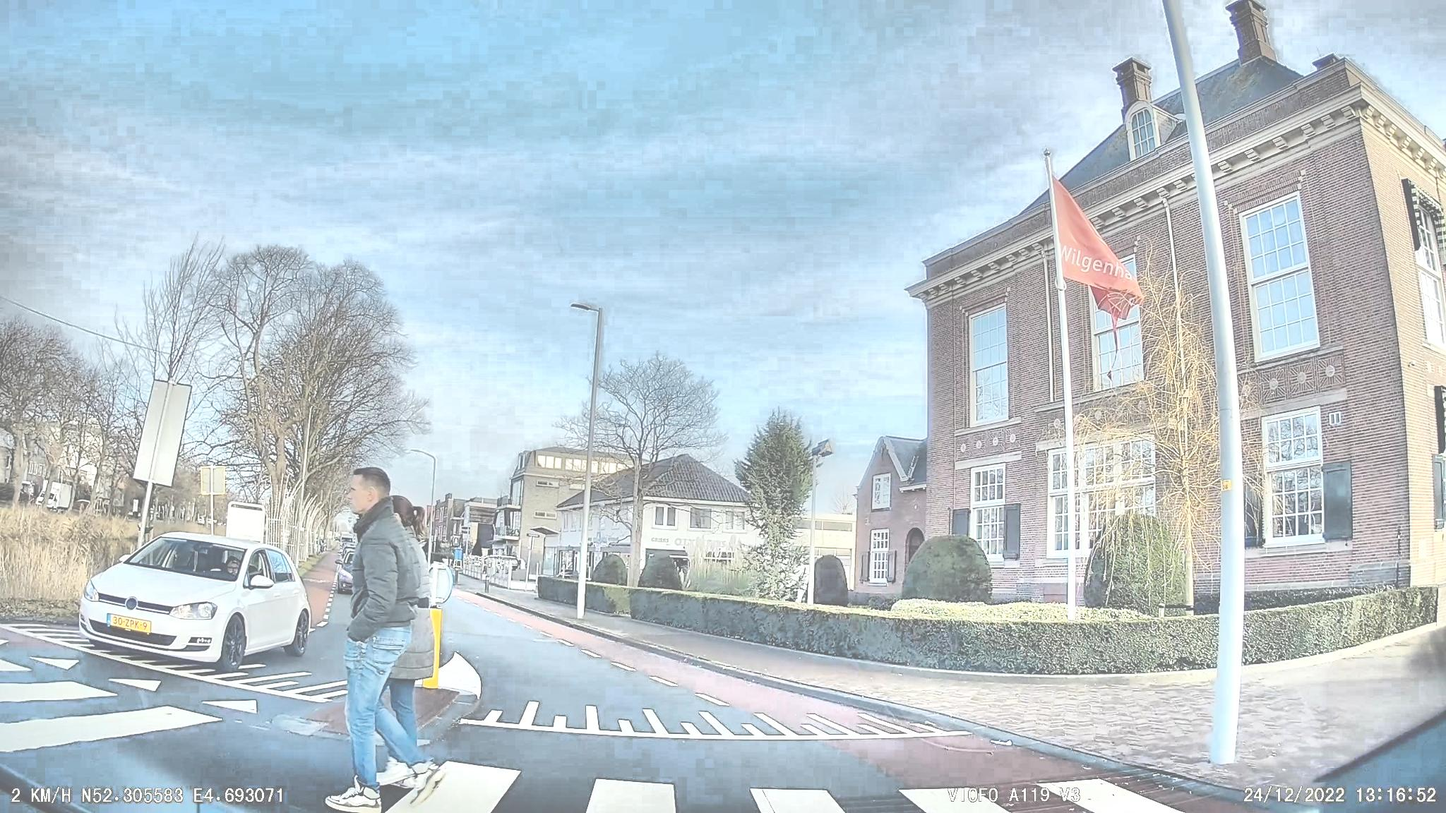Roads: (396, 601, 1183, 813), (55, 622, 354, 813)
